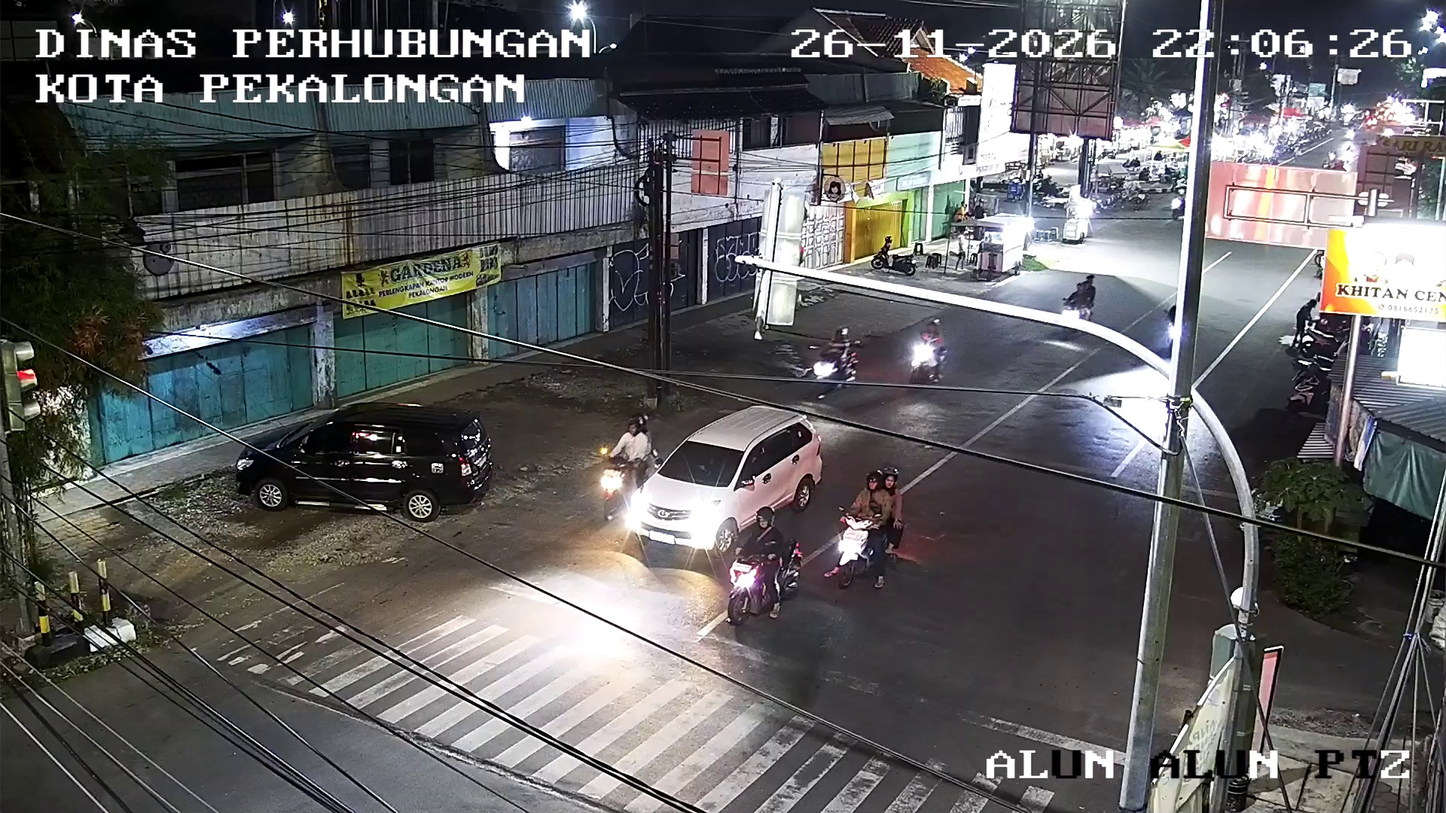Gerobak: (963, 210, 1035, 280)
